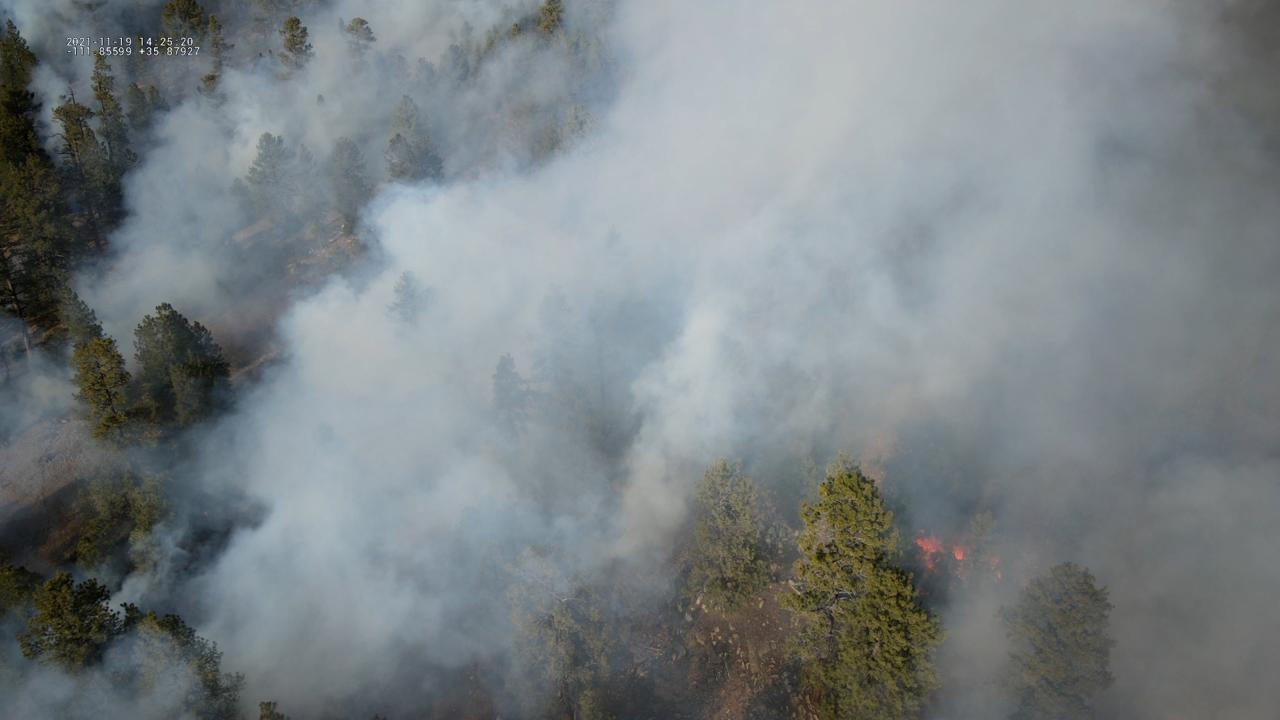fire: (914, 528, 947, 572), (951, 545, 966, 561), (991, 570, 1005, 583)
smoke: (0, 0, 1280, 720)
